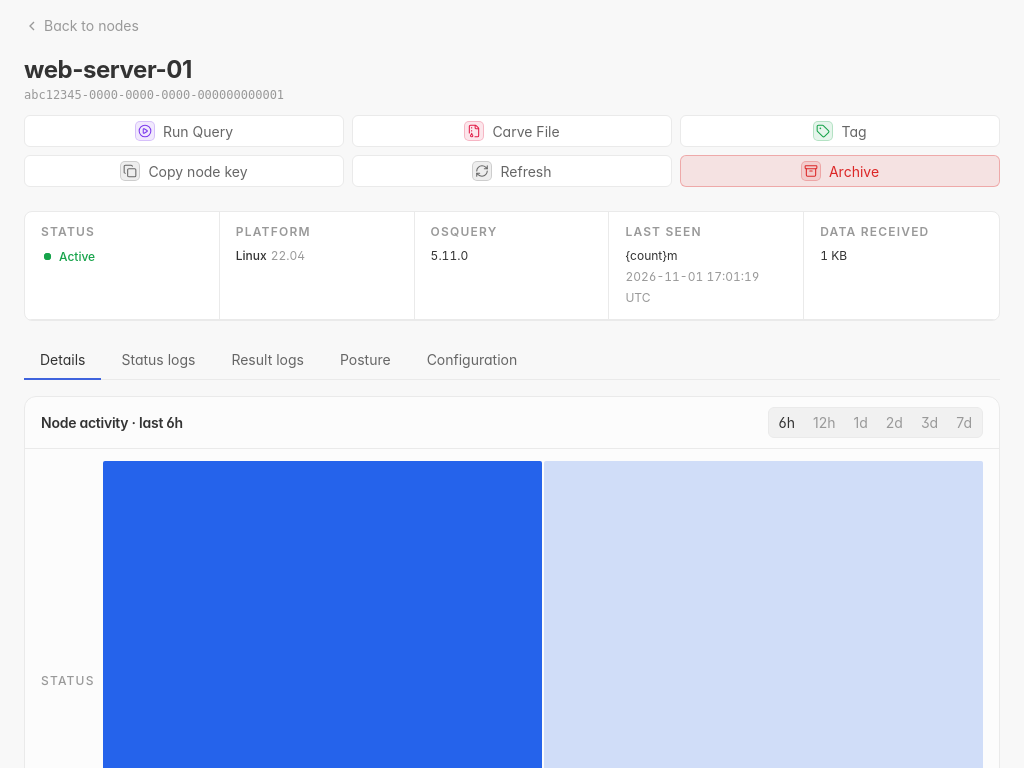
Test: NodeDetailPage › renders posture score when controls is null
This screenshot has width=1024, height=768.
Expected: the heading "web-server-01" is shown, 24,55 -> 192,84
Click the tab "Posture".
click(365, 360)  # box 324,341 -> 407,380
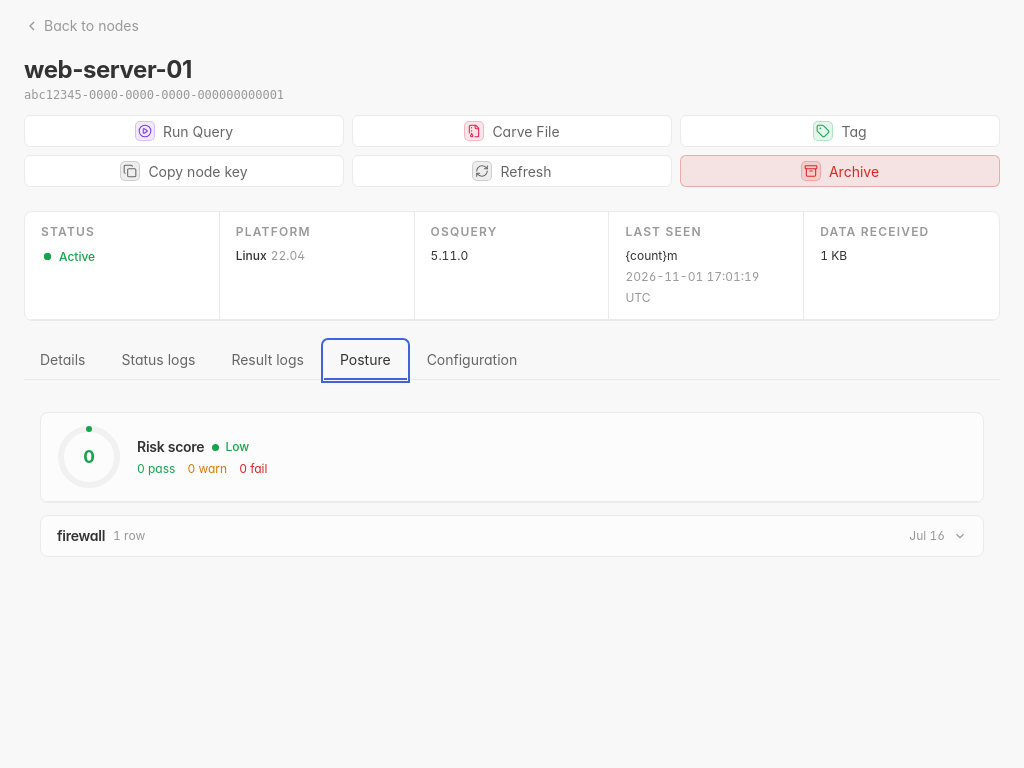
Expected: the text "Risk score" is shown, 137,437 -> 204,457
Expected: the button "firewall 1 row Jul 16" is shown, 41,516 -> 983,556
